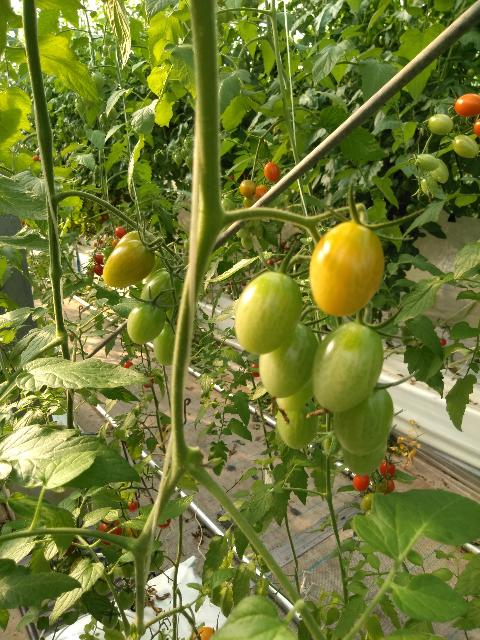l_fully_ripened: (455, 93, 480, 117), (353, 475, 370, 492), (380, 461, 396, 479), (114, 226, 126, 239), (93, 254, 105, 265), (94, 264, 103, 276)
l_green: (313, 320, 384, 413), (234, 270, 303, 357), (332, 381, 394, 455), (259, 323, 319, 399), (276, 400, 319, 450), (139, 270, 182, 313), (126, 300, 166, 345), (341, 437, 387, 476), (275, 378, 314, 411), (146, 245, 175, 282), (153, 323, 177, 366), (452, 134, 480, 158), (428, 113, 454, 135), (428, 158, 449, 184), (144, 549, 164, 573), (415, 154, 440, 172), (324, 432, 342, 456), (118, 587, 135, 611), (421, 176, 439, 198), (102, 609, 119, 630), (121, 561, 135, 578), (222, 197, 236, 212), (241, 237, 252, 250)
l_half_ripened: (309, 222, 385, 317), (103, 239, 156, 288), (114, 230, 154, 249), (263, 162, 280, 182), (240, 180, 257, 197), (243, 195, 258, 210), (253, 187, 267, 200)
